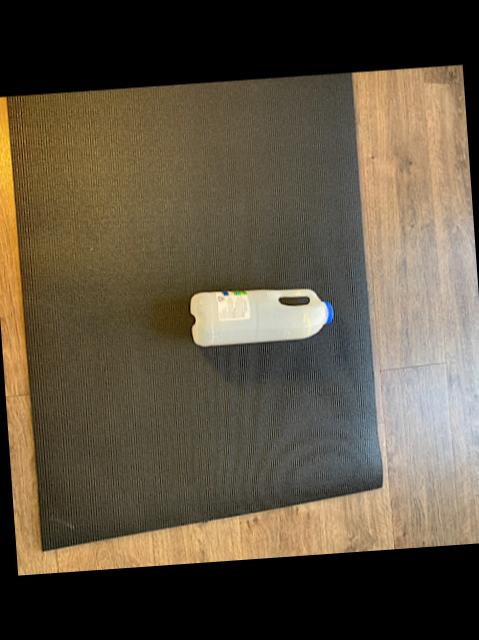plastic: (191, 290, 333, 347)
